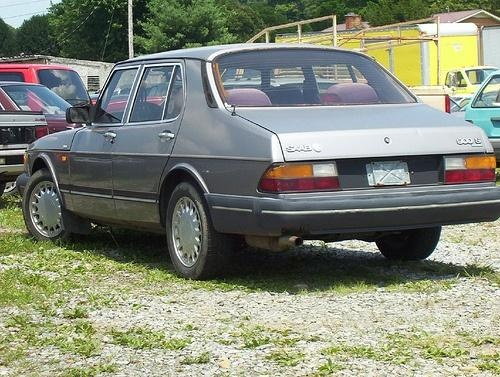car: (15, 39, 500, 280), (1, 63, 93, 113), (1, 111, 51, 196), (2, 81, 85, 131), (465, 71, 500, 165), (445, 68, 500, 93)
